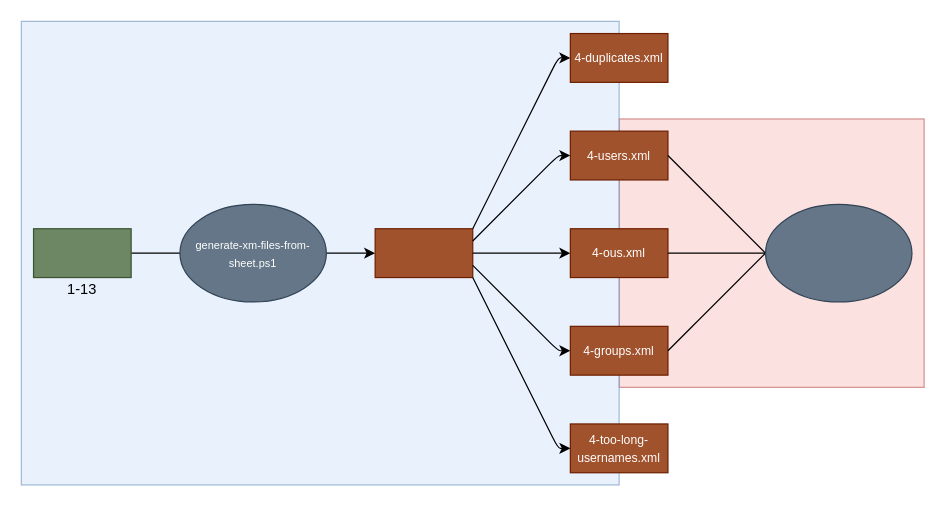
Some shapes in this 946 by 506 pixel diagram are drawn without their labels. The centre of each missing label's shape, as x and y in pixels:
dossier output: point 423,253
employes.xlsx: point 81,253
ImportUsers ImportADConfig-FromXml: point 838,252
